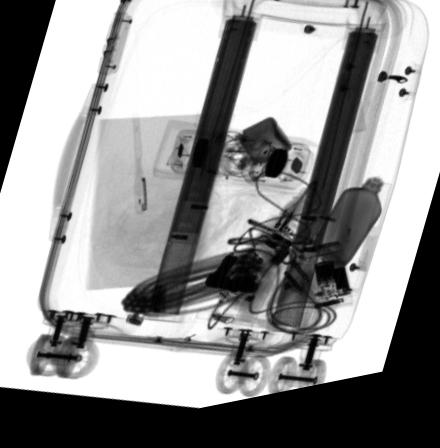Gun: (203, 262, 258, 303)
